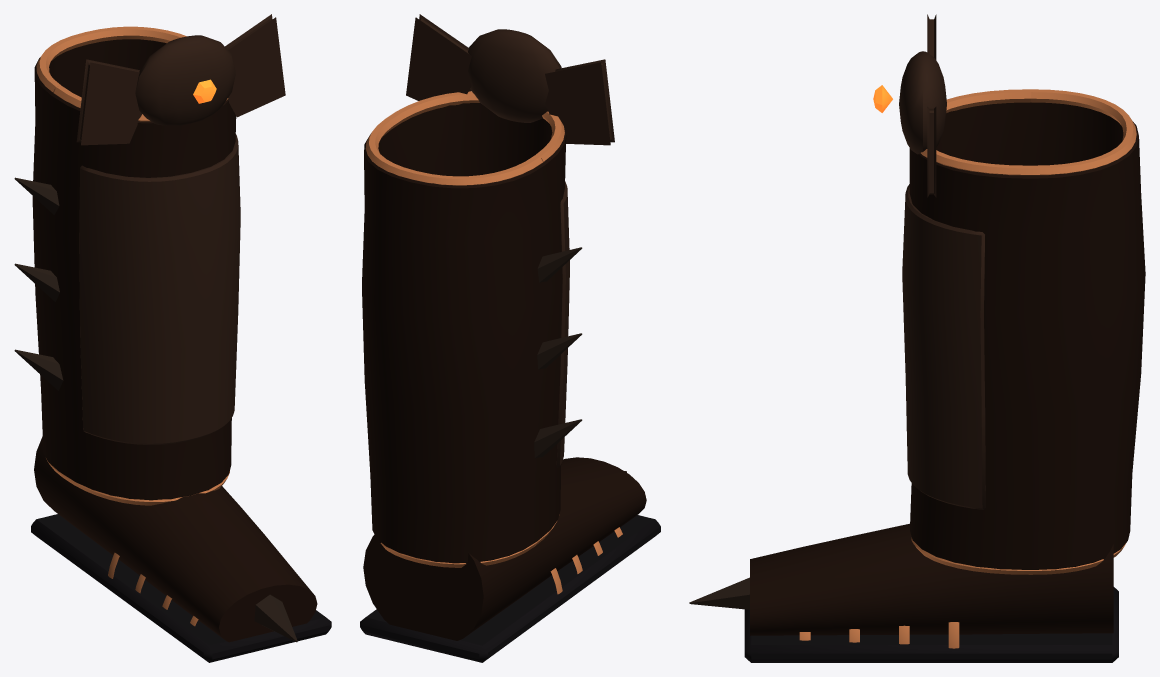
File: asc_elder_wyrm_talon_boots_R.glb
The picture shows the model from 3 angles, left to right: view 1: azimuth 30°, elevation 25°; view 2: azimuth 150°, elevation 25°; view 3: azimuth 270°, elevation 25°; orthographic projection. The views are drawn at different scales.
Visible parts, largest first — view 1: asc_elder_wyrm_talon_boots, AT_foot_R; view 2: asc_elder_wyrm_talon_boots, AT_foot_R; view 3: asc_elder_wyrm_talon_boots, AT_foot_R.
Boxes of the visible parts, box(x1,y1,x2,y2) form: asc_elder_wyrm_talon_boots: box(14, 14, 285, 505); AT_foot_R: box(31, 436, 331, 662); asc_elder_wyrm_talon_boots: box(362, 14, 614, 567); AT_foot_R: box(360, 457, 660, 662); asc_elder_wyrm_talon_boots: box(873, 14, 1145, 574); AT_foot_R: box(689, 523, 1118, 662).
Size of the model in its own units: 0.2427 by 0.5768 by 0.4142.
